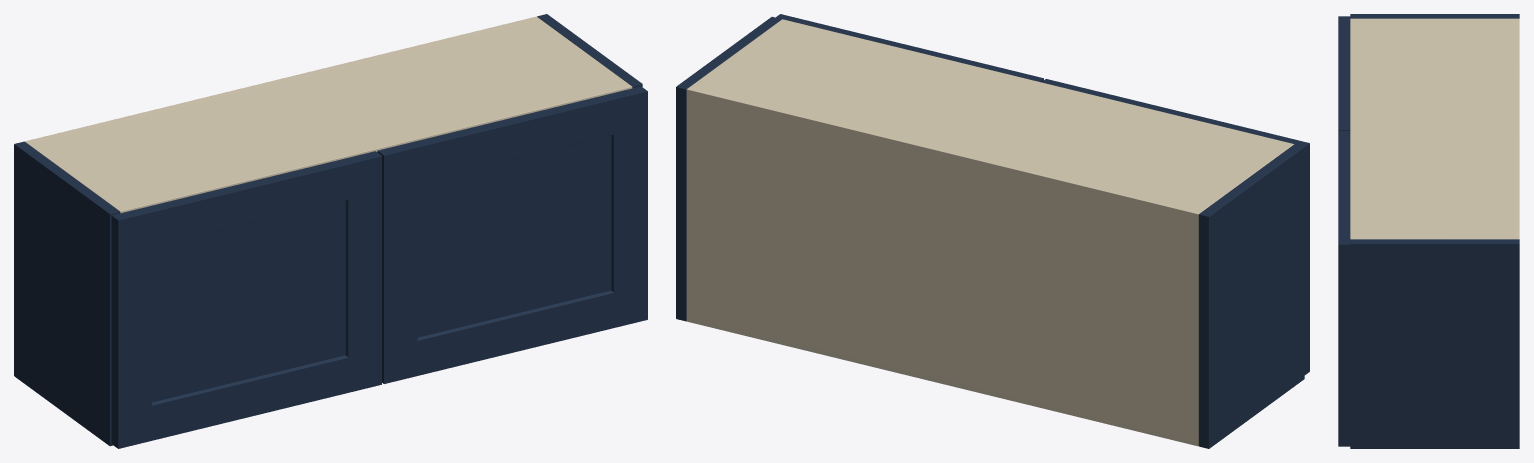
The model's file is oppein-ply-bss-w3615.glb.
3 views of the same model, side by side, from view 1: azimuth 30°, elevation 25°; view 2: azimuth 150°, elevation 25°; view 3: azimuth 270°, elevation 25° (orthographic). The views are drawn at different scales.
Visible parts, largest first — view 1: Door, Door.001, Cabinet top, Cabinet side, Cabinet back, Cabinet side.001; view 2: Cabinet back, Cabinet top, Cabinet side, Cabinet bottom, Cabinet side.001, Door, Door.001; view 3: Cabinet top, Cabinet side.001, Door.001, Cabinet back, Door, Cabinet side.
Part boxes in pixels (bbox=[...]): Door: bbox=[111, 151, 381, 448]; Door.001: bbox=[377, 86, 647, 383]; Cabinet top: bbox=[25, 17, 632, 213]; Cabinet side: bbox=[14, 141, 120, 446]; Cabinet back: bbox=[25, 16, 539, 143]; Cabinet side.001: bbox=[537, 14, 642, 88]; Cabinet back: bbox=[686, 86, 1201, 445]; Cabinet top: bbox=[687, 19, 1293, 224]; Cabinet side: bbox=[1198, 144, 1304, 448]; Cabinet bottom: bbox=[686, 312, 1198, 446]; Cabinet side.001: bbox=[676, 16, 781, 321]; Door: bbox=[1041, 79, 1309, 374]; Door.001: bbox=[776, 14, 1043, 82]; Cabinet top: bbox=[1350, 18, 1519, 239]; Cabinet side.001: bbox=[1350, 239, 1519, 448]; Door.001: bbox=[1338, 131, 1350, 446]; Cabinet back: bbox=[1513, 18, 1519, 238]; Door: bbox=[1338, 16, 1350, 130]; Cabinet side: bbox=[1350, 14, 1519, 18].
Size of the model in its own units: 0.9144 by 0.381 by 0.3048.
